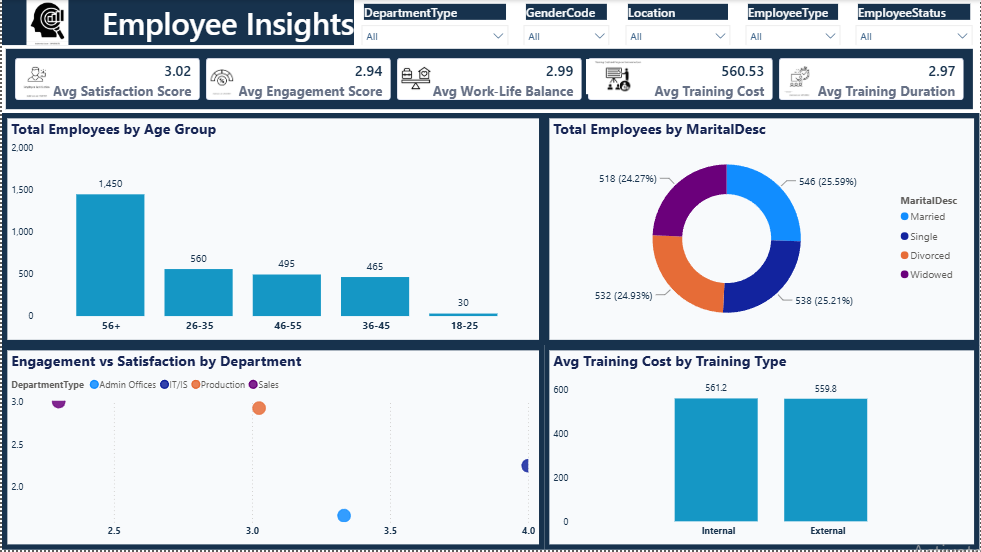

The dashboard page shown, as its layout file describes it:
{"tool":"powerbi","page":{"name":"Employee Insights","canvas":[1280,720],"ordinal":3},"visuals":[{"type":"cardVisual","fields":{"Data":["All_Measures.Average Satisfaction Score","All_Measures.Average Engagement Score","All_Measures.Average Work-Life Balance","All_Measures.Average Training Cost","All_Measures.Average Training Duration"]},"box":[0,59,1280.2,89.3],"z":0},{"type":"clusteredColumnChart","fields":{"Y":["All_Measures.Total Employees"],"Category":["Messy_HR_Dataset_Detailed.Age Group"]},"box":[0,148.3,709.9,303.8],"z":1000},{"type":"donutChart","fields":{"Category":["Messy_HR_Dataset_Detailed.MaritalDesc"],"Y":["All_Measures.Total Employees"]},"box":[709.9,148.3,570.2,303.8],"z":2000},{"type":"columnChart","fields":{"Category":["Messy_HR_Dataset_Detailed.Training Type"],"Y":["All_Measures.Average Training Cost"]},"box":[709.9,452.2,570.2,267.8],"z":3000},{"type":"scatterChart","title":"Engagement vs Satisfaction by Department","fields":{"X":["All_Measures.Average Engagement Score"],"Y":["All_Measures.Average Satisfaction Score"],"Series":["Messy_HR_Dataset_Detailed.DepartmentType"]},"box":[0,452.2,709.9,267.8],"z":4000},{"type":"slicer","fields":{"Values":["Messy_HR_Dataset_Detailed.DepartmentType"]},"box":[460.8,0,211.7,59],"z":5000},{"type":"slicer","fields":{"Values":["Messy_HR_Dataset_Detailed.GenderCode"]},"box":[672.5,0,132.5,59],"z":6000},{"type":"slicer","fields":{"Values":["Messy_HR_Dataset_Detailed.EmployeeType"]},"box":[963.4,0,144,59],"z":7000},{"type":"slicer","fields":{"Values":["Messy_HR_Dataset_Detailed.EmployeeStatus"]},"box":[1107.4,0,172.8,59],"z":8000},{"type":"shape","box":[0,0,460.8,59],"z":9000},{"type":"image","box":[10.1,77.8,70.6,50.4],"z":10000},{"type":"image","box":[1022.4,76.3,43.2,53.3],"z":11000},{"type":"image","box":[764.6,73.4,83.5,54.7],"z":12000},{"type":"image","box":[521.3,77.8,41.8,50.4],"z":13000},{"type":"image","box":[0,0,119.5,59],"z":14000},{"type":"image","box":[267.8,76.3,38.9,54.7],"z":15000},{"type":"slicer","fields":{"Values":["Messy_HR_Dataset_Detailed.Location"]},"box":[806.4,0,157,59],"z":16000}]}

Visuals, with their boxes in screenshot pixels (x1, y1, x2, y2), scaled from the page's 1280x720 canvas onto the 981x552 screenshot:
cardVisual - All_Measures.Average Satisfaction Score x All_Measures.Average Engagement Score: bbox=(0, 45, 980, 114)
clusteredColumnChart - All_Measures.Total Employees x Messy_HR_Dataset_Detailed.Age Group: bbox=(0, 114, 544, 347)
donutChart - Messy_HR_Dataset_Detailed.MaritalDesc x All_Measures.Total Employees: bbox=(544, 114, 980, 347)
columnChart - Messy_HR_Dataset_Detailed.Training Type x All_Measures.Average Training Cost: bbox=(544, 347, 980, 551)
"Engagement vs Satisfaction by Department" scatterChart: bbox=(0, 347, 544, 551)
slicer - Messy_HR_Dataset_Detailed.DepartmentType: bbox=(353, 0, 515, 45)
slicer - Messy_HR_Dataset_Detailed.GenderCode: bbox=(515, 0, 617, 45)
slicer - Messy_HR_Dataset_Detailed.EmployeeType: bbox=(738, 0, 849, 45)
slicer - Messy_HR_Dataset_Detailed.EmployeeStatus: bbox=(849, 0, 980, 45)
shape: bbox=(0, 0, 353, 45)
image: bbox=(8, 60, 62, 98)
image: bbox=(784, 58, 817, 99)
image: bbox=(586, 56, 650, 98)
image: bbox=(400, 60, 432, 98)
image: bbox=(0, 0, 92, 45)
image: bbox=(205, 58, 235, 100)
slicer - Messy_HR_Dataset_Detailed.Location: bbox=(618, 0, 738, 45)
